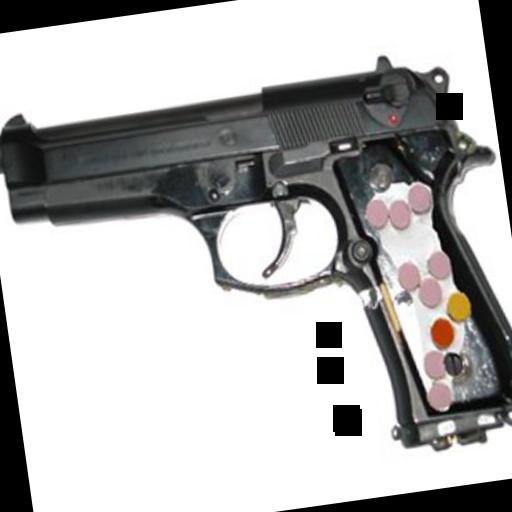Handgun: (0, 49, 512, 512)
